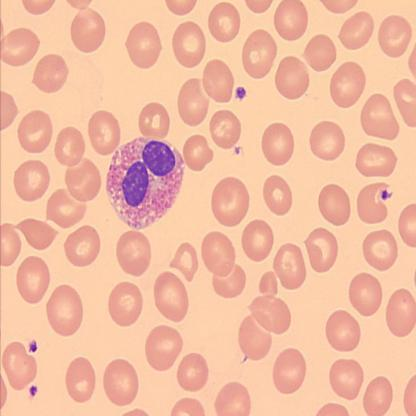Eosinophil: (107, 136, 186, 228)
